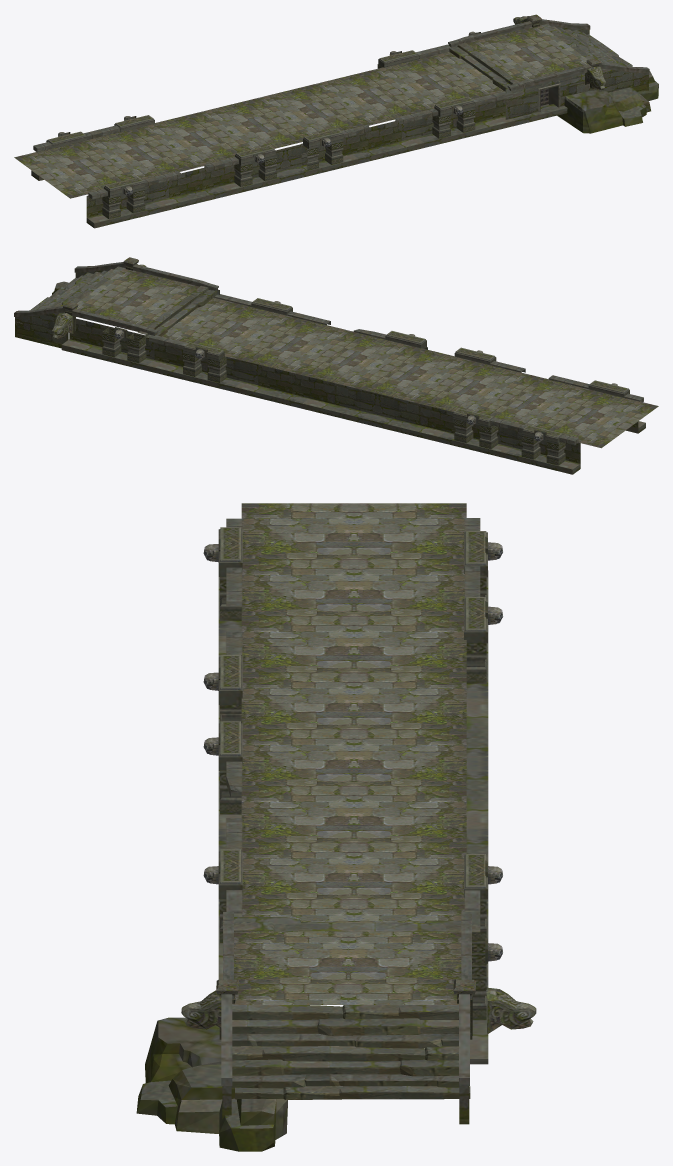
The model's file is S2_Build_XSC062.FBX.
3 views of the same model, one above another, from view 1: azimuth 30°, elevation 25°; view 2: azimuth 150°, elevation 25°; view 3: azimuth 270°, elevation 25° (orthographic). The views are drawn at different scales.
Parts seen in each view (by area): view 1: S2_Build_XSC062; view 2: S2_Build_XSC062; view 3: S2_Build_XSC062.
Boxes of the visible parts, x1,y1,x2,y2 form: S2_Build_XSC062: (14, 14, 658, 228); S2_Build_XSC062: (14, 257, 658, 474); S2_Build_XSC062: (136, 503, 536, 1151).
Bounding box in the file's own units: 905 × 80.27 × 267.
